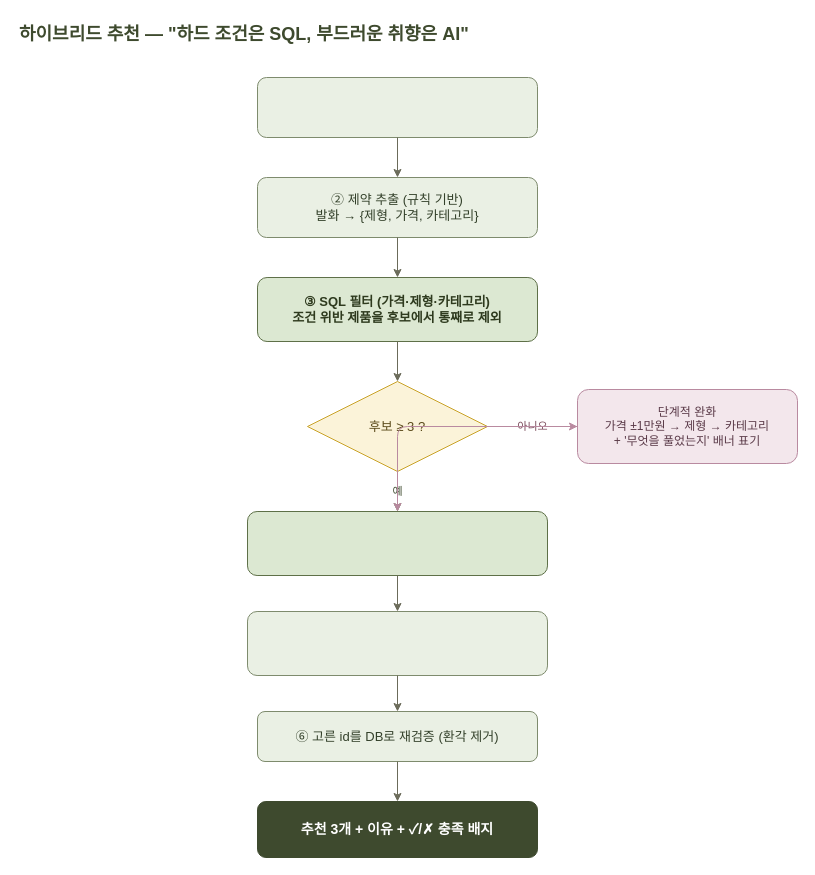
Some shapes in this 815 by 875 pixel diagram are drawn without their labels. The shapes that lost their labels are listed below. From the top down, each one's centre as x and y in pixels, then its label:
At point (397, 107): "① 대화로 조건 수집 제품군 · 제형 · 가격대 · 피부 고민".
At point (397, 543): "④ 임베딩 코사인 정렬 (RAG) 대화와 가장 비슷한 후보 순으로 — '도서관 사서'".
At point (397, 643): "⑤ LLM이 후보 중 3개 선택 + 추천 이유 작성 (위반 제품은 이미 ③에서 사라져 볼 수조차 없음)".
